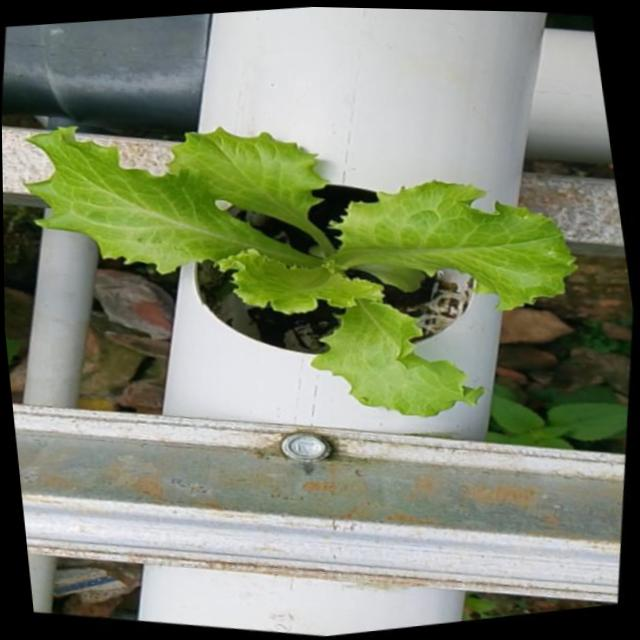Baby: (27, 127, 578, 417)
